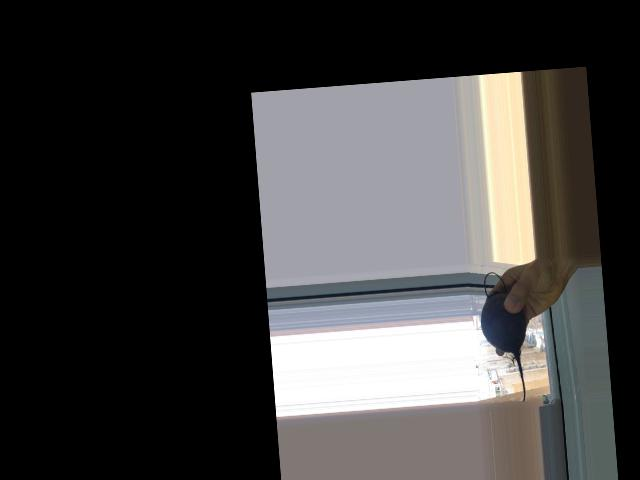beet: (477, 270, 532, 405)
